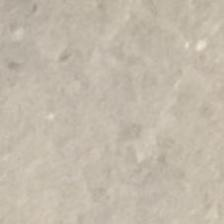Non_Crack: (16, 8, 224, 211)
